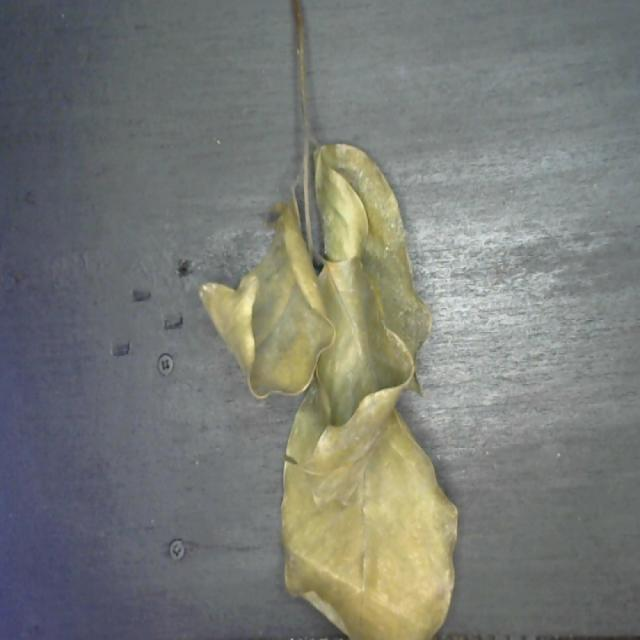biodegradable: (195, 130, 461, 640)
